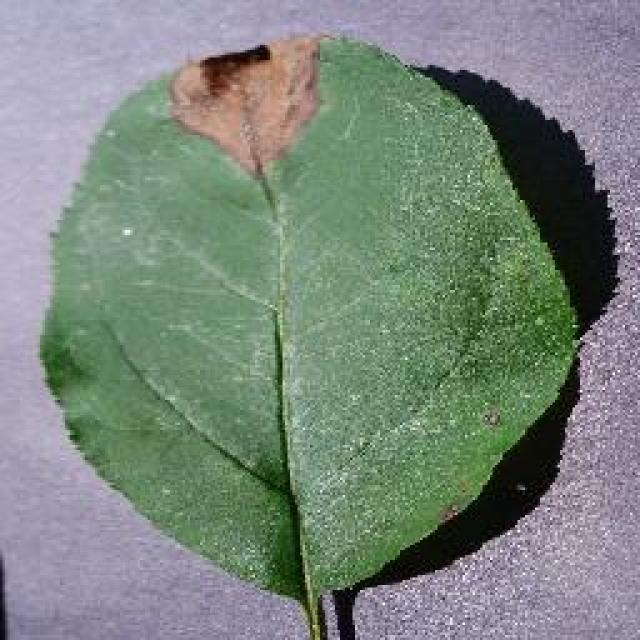apple healthy: (35, 30, 615, 638)
